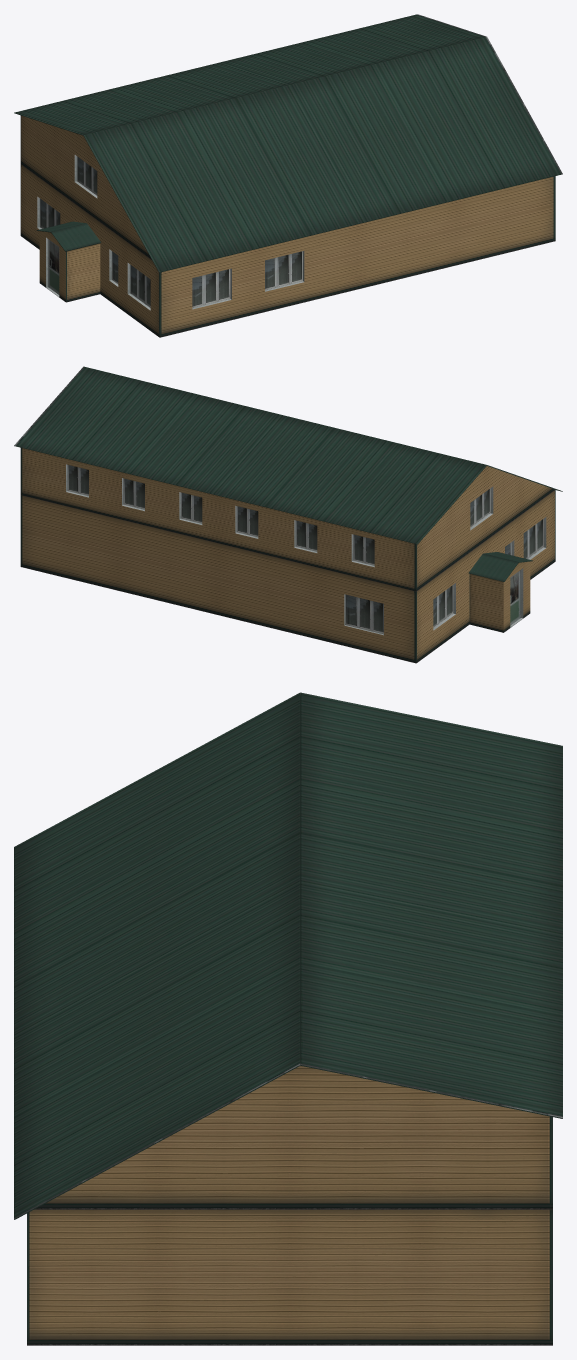
The model's file is Dhz_zsfz_07.FBX.
3 renders of one model, top to bottom at view 1: azimuth 30°, elevation 25°; view 2: azimuth 150°, elevation 25°; view 3: azimuth 270°, elevation 25°, orthographic. The views are drawn at different scales.
Parts seen in each view (by area): view 1: Dhz_zsfz_07; view 2: Dhz_zsfz_07; view 3: Dhz_zsfz_07.
Part boxes in pixels (<box>): Dhz_zsfz_07: <box>14,14,562,337</box>; Dhz_zsfz_07: <box>14,366,562,663</box>; Dhz_zsfz_07: <box>14,692,562,1345</box>.
Size of the model in its own units: 19.03 by 6.29 by 10.99.
1 material, 1 textured.
